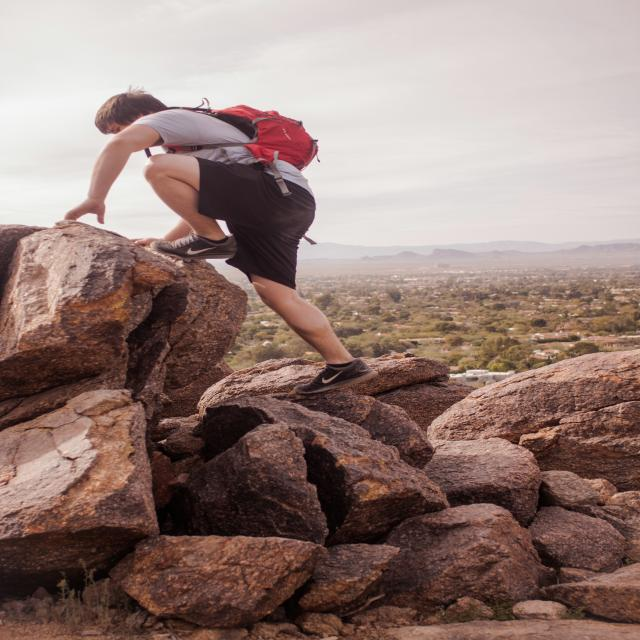adult: (60, 83, 369, 394)
